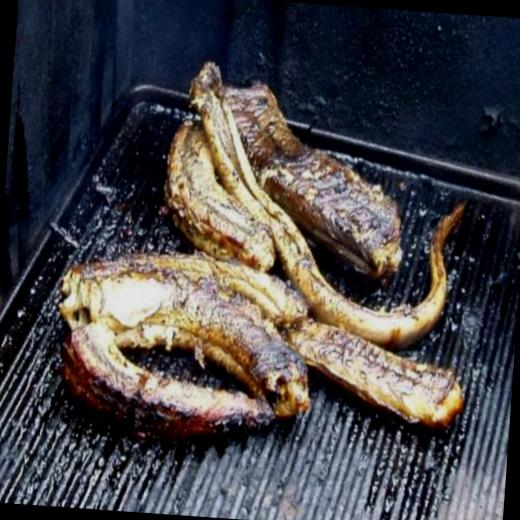Banana: (47, 51, 484, 462)
